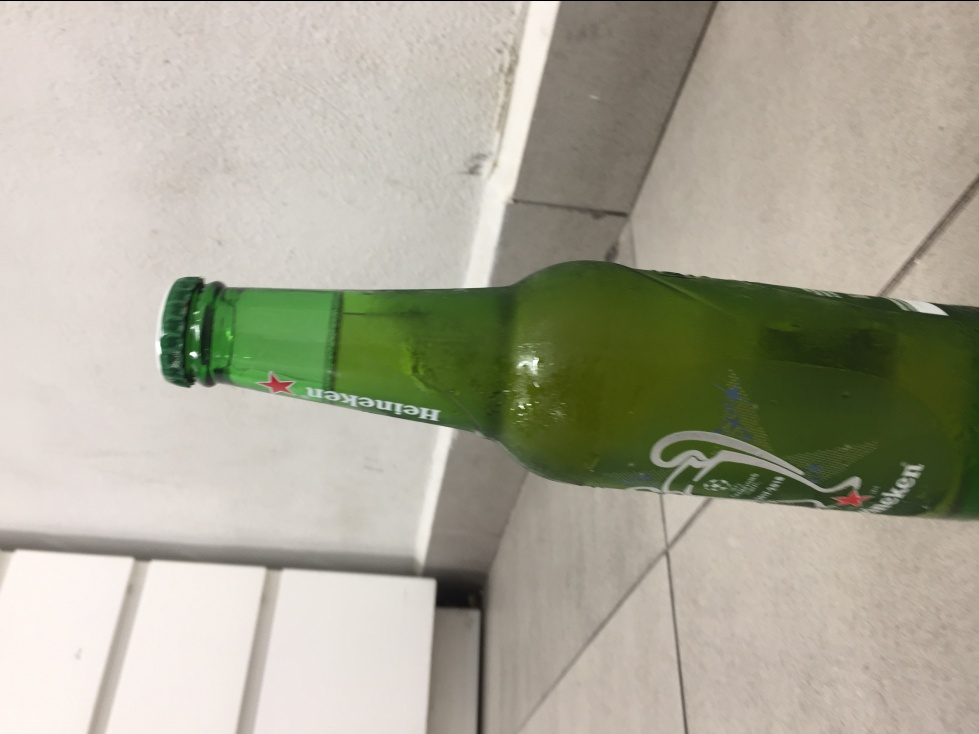heineken: (154, 258, 978, 523)
